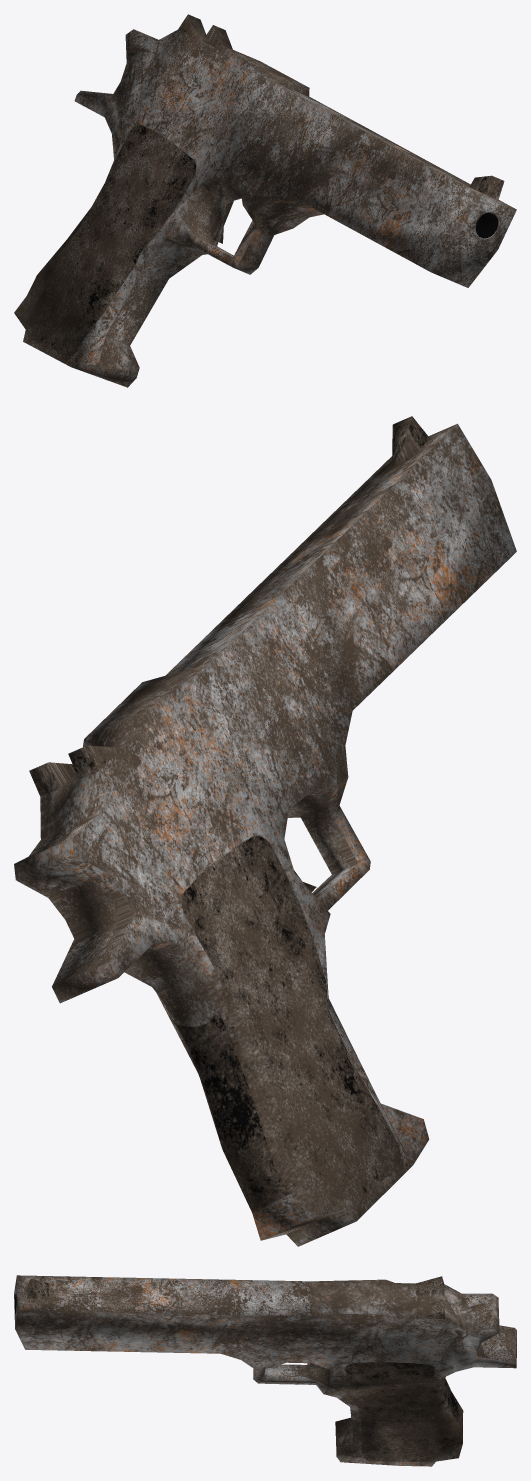
File: Anim_disparar_pistola_objetos.0025.obj
3 views of the same model, one above another, from view 1: azimuth 30°, elevation 25°; view 2: azimuth 150°, elevation 25°; view 3: azimuth 270°, elevation 25° (orthographic). The views are drawn at different scales.
Parts seen in each view (by area): view 1: Pistola1; view 2: Pistola1; view 3: Pistola1.
Part boxes in pixels (box(x1,y1,x2,y2)): Pistola1: box(14, 14, 516, 387); Pistola1: box(14, 416, 516, 1246); Pistola1: box(14, 1275, 516, 1466).
Bounding box in the file's own units: 0.7129 × 0.9491 × 1.69.
